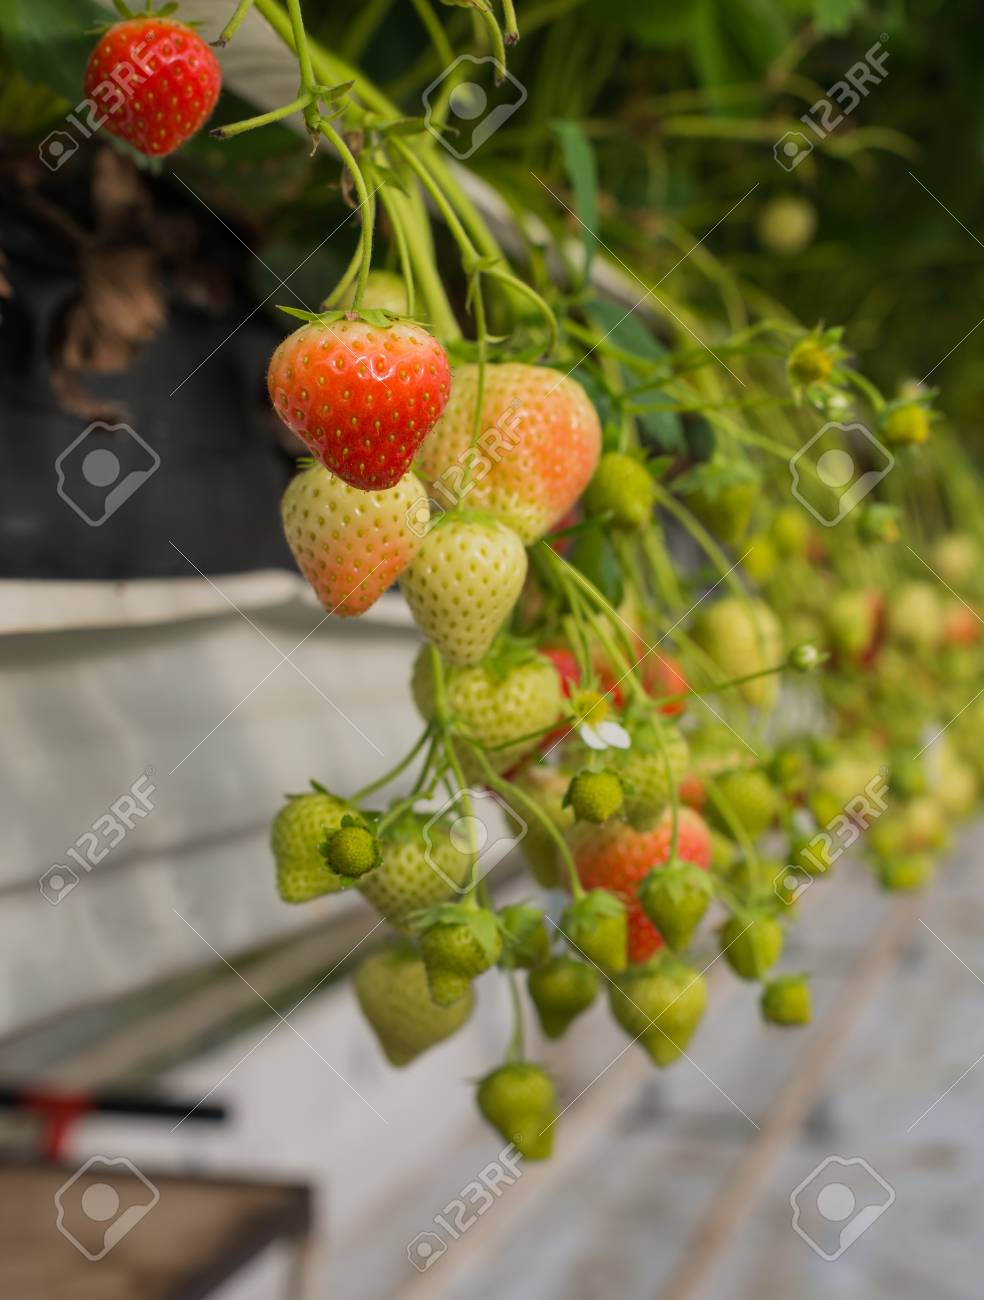ripe_strawberry: (262, 306, 463, 496), (81, 2, 228, 165)
unripe_strawberry: (409, 357, 606, 548), (573, 798, 722, 970), (278, 460, 433, 622), (408, 634, 564, 792), (402, 508, 528, 670), (353, 945, 485, 1075), (357, 805, 475, 935), (575, 711, 693, 839), (267, 785, 388, 908), (688, 588, 794, 715), (605, 953, 711, 1075), (472, 1053, 563, 1169), (419, 902, 512, 1008), (632, 856, 722, 954), (579, 447, 662, 541), (703, 761, 783, 853), (557, 891, 634, 973), (528, 955, 597, 1046), (713, 906, 785, 985), (704, 460, 762, 556), (491, 897, 558, 971), (560, 762, 634, 826), (322, 815, 390, 883), (727, 857, 796, 921), (781, 334, 845, 403), (758, 970, 823, 1035), (826, 590, 878, 662), (874, 399, 939, 451), (787, 836, 838, 881)
